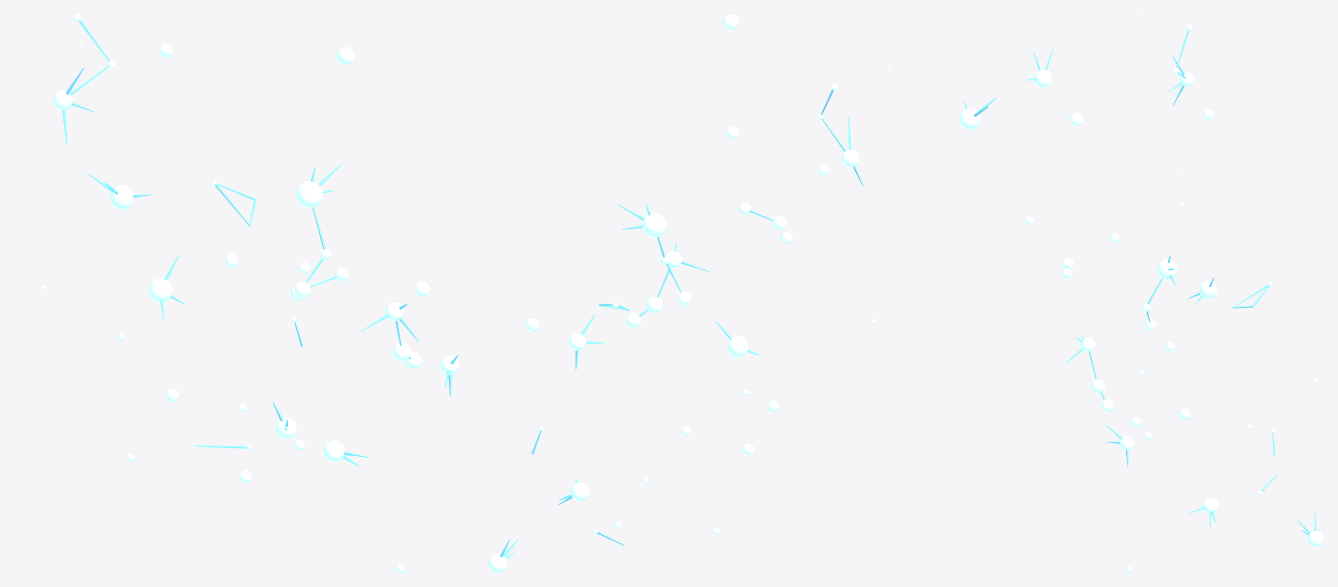
File: neurons.glb
3 views of the same model, side by side, from view 1: azimuth 30°, elevation 25°; view 2: azimuth 150°, elevation 25°; view 3: azimuth 270°, elevation 25° (orthographic). The views are drawn at different scales.
Visible parts, largest first — view 1: Sphere.018; view 2: no part large enough to name; view 3: no part large enough to name.
Boxes of the visible parts, x1,y1,x2,y2 form: Sphere.018: (296,181,322,208).
Size of the model in its own units: 5.68 by 7.56 by 4.59.
